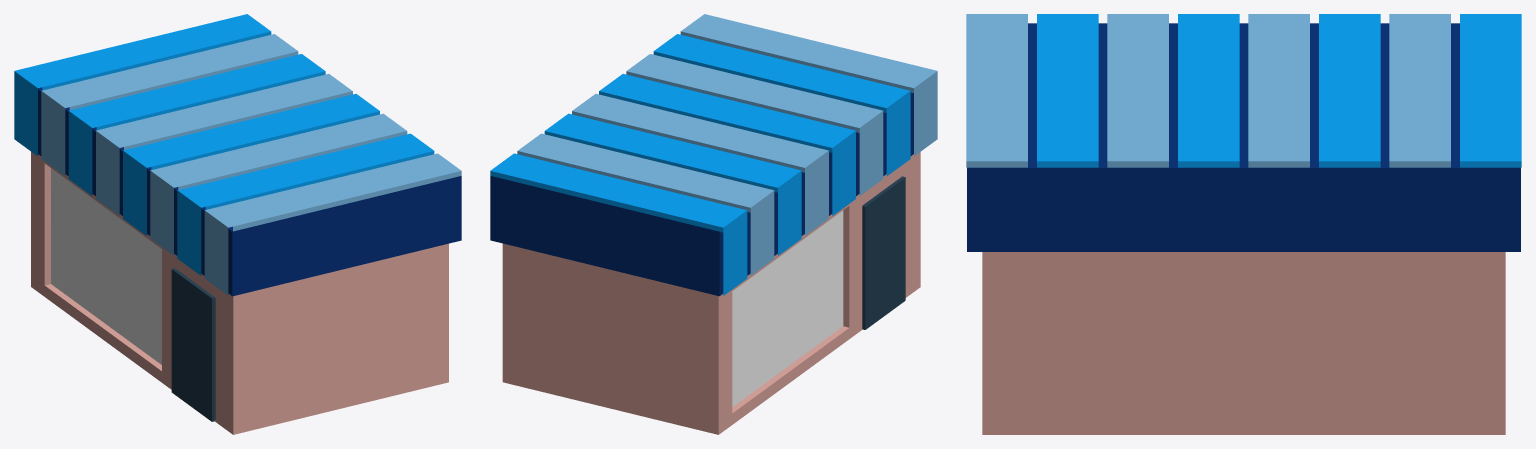
Rendered from shop.gltf.
3 views of the same model, side by side, from view 1: azimuth 30°, elevation 25°; view 2: azimuth 150°, elevation 25°; view 3: azimuth 270°, elevation 25° (orthographic). The views are drawn at different scales.
Visible parts, largest first — view 1: House, Cloth, Cloth Alternate, Roof, Window, Door; view 2: House, Cloth Alternate, Cloth, Roof, Window, Door; view 3: House, Roof, Cloth, Cloth Alternate.
Part boxes in pixels (x1,y1,x2,y2): House: [31, 152, 448, 434]; Cloth: [41, 34, 461, 295]; Cloth Alternate: [14, 14, 434, 275]; Roof: [38, 87, 461, 296]; Window: [51, 168, 161, 364]; Door: [171, 268, 215, 421]; House: [502, 152, 920, 434]; Cloth Alternate: [490, 34, 910, 295]; Cloth: [517, 14, 937, 275]; Roof: [490, 92, 913, 296]; Window: [732, 210, 843, 406]; Door: [862, 176, 905, 329]; House: [982, 252, 1505, 434]; Roof: [967, 23, 1520, 251]; Cloth: [966, 14, 1450, 167]; Cloth Alternate: [1037, 14, 1521, 167].
Bounding box in the file's own units: 8 × 7.02 × 12.72.
